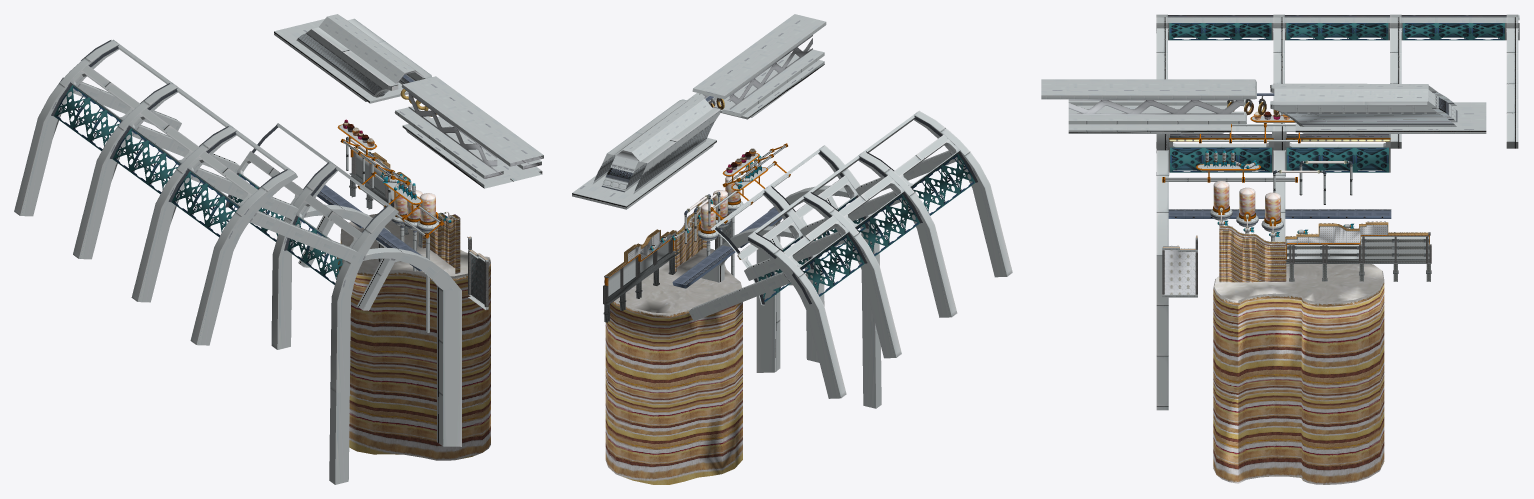
The model's file is stg220_17.obj.
3 renders of one model, left to right at view 1: azimuth 30°, elevation 25°; view 2: azimuth 150°, elevation 25°; view 3: azimuth 270°, elevation 25°, orthographic. The views are drawn at different scales.
Parts seen in each view (by area): view 1: polygon24, polygon199, polygon201, polygon193, polygon42, polygon191, polygon52, polygon210, polygon185, polygon208, polygon183, polygon49 (+12 smaller); view 2: polygon24, polygon199, polygon42, polygon193, polygon191, polygon201, polygon52, polygon210, polygon26, polygon185, polygon208, polygon183 (+15 smaller); view 3: polygon24, polygon42, polygon199, polygon52, polygon26, polygon200, polygon68, polygon47, polygon44, polygon202, polygon197, polygon48 (+23 smaller).
Boxes of the visible parts, <box> form: polygon24: <box>337,241,490,460</box>; polygon199: <box>237,151,461,484</box>; polygon201: <box>276,123,461,484</box>; polygon193: <box>137,130,358,345</box>; polygon42: <box>395,76,543,184</box>; polygon191: <box>131,126,356,344</box>; polygon52: <box>274,14,419,103</box>; polygon210: <box>20,44,181,216</box>; polygon185: <box>79,87,239,259</box>; polygon208: <box>14,39,180,215</box>; polygon183: <box>73,82,239,258</box>; polygon49: <box>274,18,431,103</box>; polygon24: <box>605,302,742,484</box>; polygon199: <box>701,145,881,408</box>; polygon42: <box>687,14,825,119</box>; polygon193: <box>800,115,1007,317</box>; polygon191: <box>800,111,1012,316</box>; polygon201: <box>711,149,875,408</box>; polygon52: <box>572,96,716,206</box>; polygon210: <box>688,196,840,398</box>; polygon26: <box>616,248,741,313</box>; polygon185: <box>744,155,896,358</box>; polygon208: <box>689,215,849,398</box>; polygon183: <box>744,175,904,357</box>; polygon24: <box>1213,284,1384,484</box>; polygon42: <box>1041,79,1256,130</box>; polygon199: <box>1156,126,1390,410</box>; polygon52: <box>1274,83,1486,130</box>; polygon26: <box>1214,264,1383,302</box>; polygon200: <box>1170,147,1388,172</box>; polygon68: <box>1219,229,1286,282</box>; polygon47: <box>1274,85,1457,126</box>; polygon44: <box>1041,95,1256,133</box>; polygon202: <box>1168,134,1391,216</box>; polygon197: <box>1172,148,1386,170</box>; polygon48: <box>1286,92,1453,123</box>.
Bounding box in the file's own units: 3470 × 3642 × 4295.
66 materials, 66 textured.
